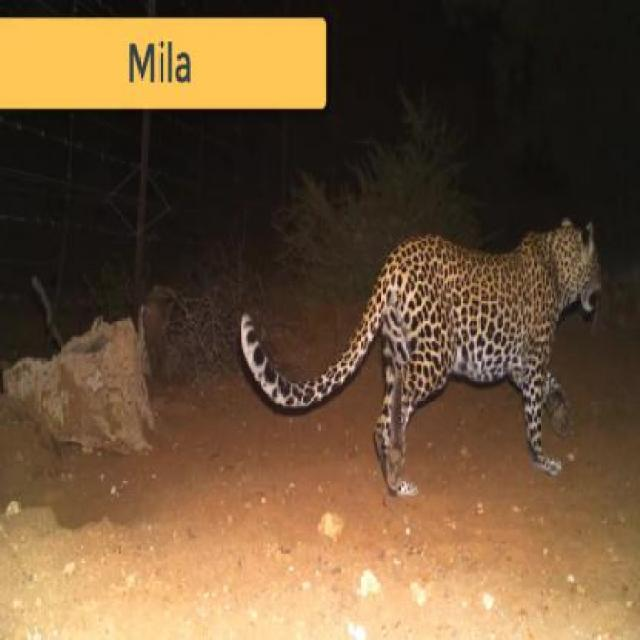Leopard: (226, 151, 625, 523)
